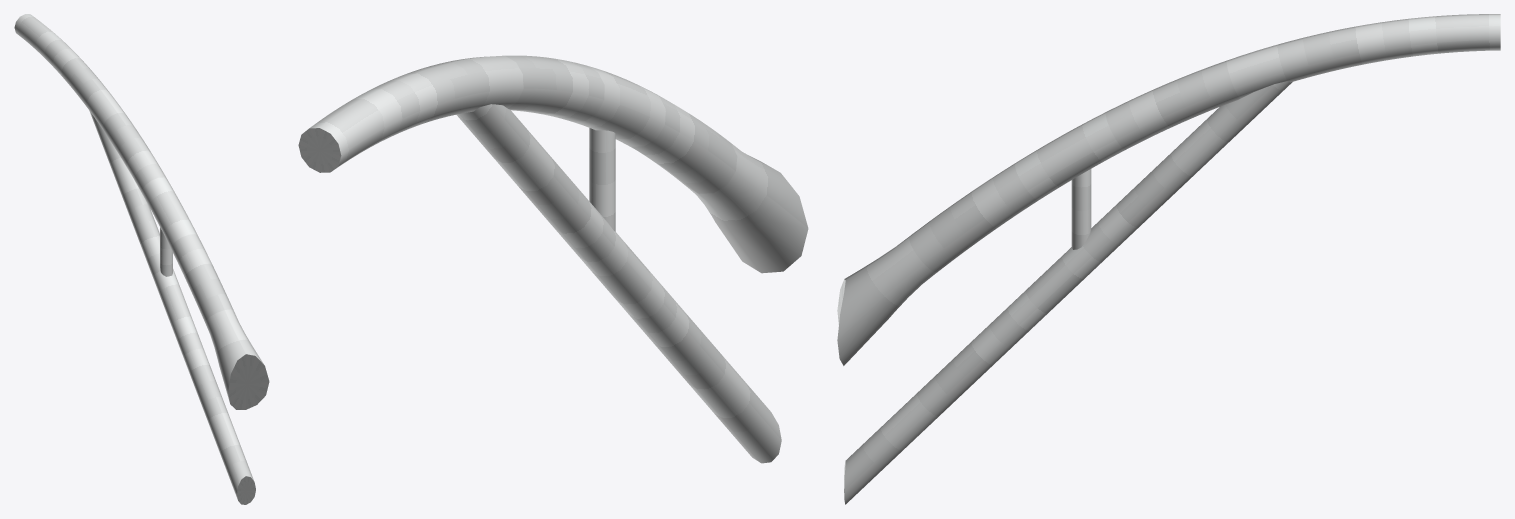
Rendered from luminairearm_truss8ft_inv.obj.
3 views of the same model, side by side, from view 1: azimuth 30°, elevation 25°; view 2: azimuth 150°, elevation 25°; view 3: azimuth 270°, elevation 25° (orthographic). The views are drawn at different scales.
Parts seen in each view (by area): view 1: luminairearm_truss8ft_inv; view 2: luminairearm_truss8ft_inv; view 3: luminairearm_truss8ft_inv.
Boxes of the visible parts, <box> form: luminairearm_truss8ft_inv: <box>14,14,269,504</box>; luminairearm_truss8ft_inv: <box>298,55,808,463</box>; luminairearm_truss8ft_inv: <box>837,14,1500,504</box>.
Bounding box in the file's own units: 0.1067 × 0.8125 × 1.
